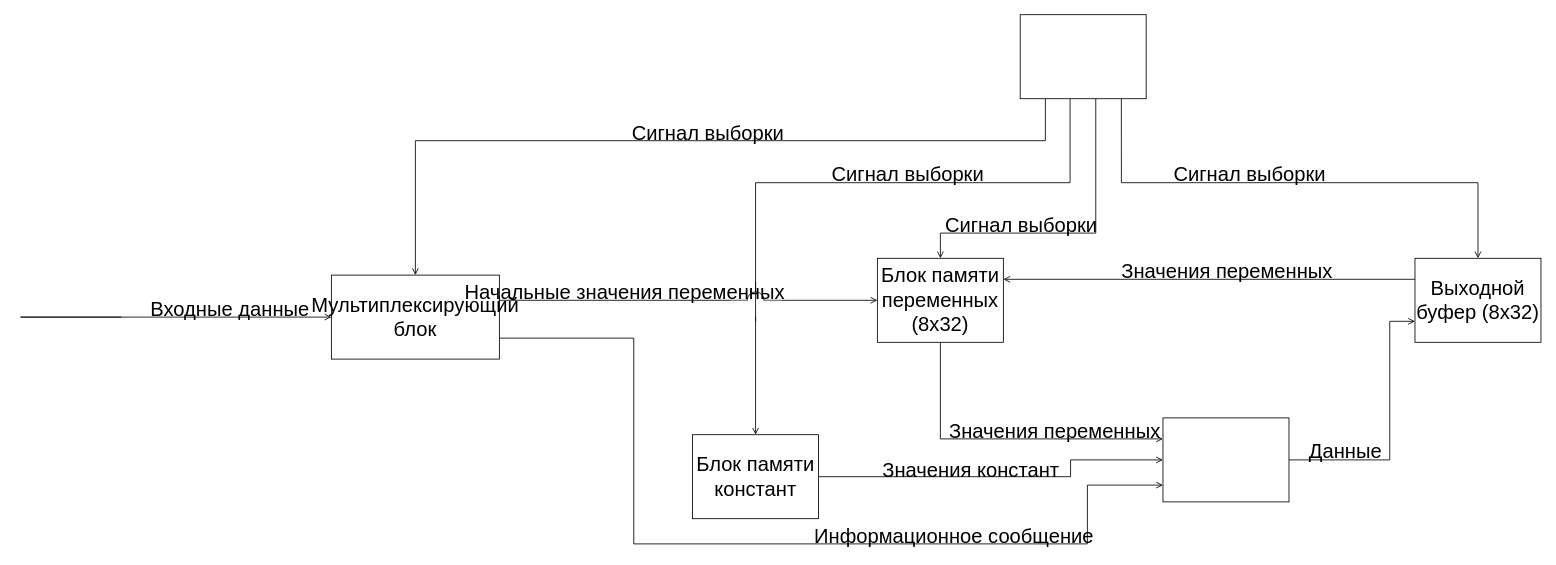
This 1556x565 diagram has some shape labels left out. The box of each missing label's shape, as (x1, y1, x2, y2) in pixels:
Блок управления: (1019, 14, 1146, 99)
Вычислительный блок: (1162, 417, 1289, 502)
